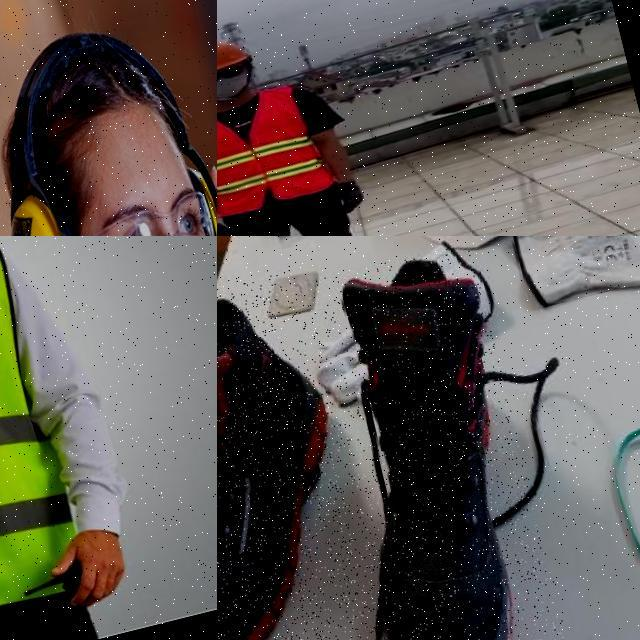boots: (291, 241, 583, 640), (217, 264, 386, 640)
helmet: (217, 31, 254, 81)
vest: (0, 236, 94, 640), (217, 79, 334, 221)
